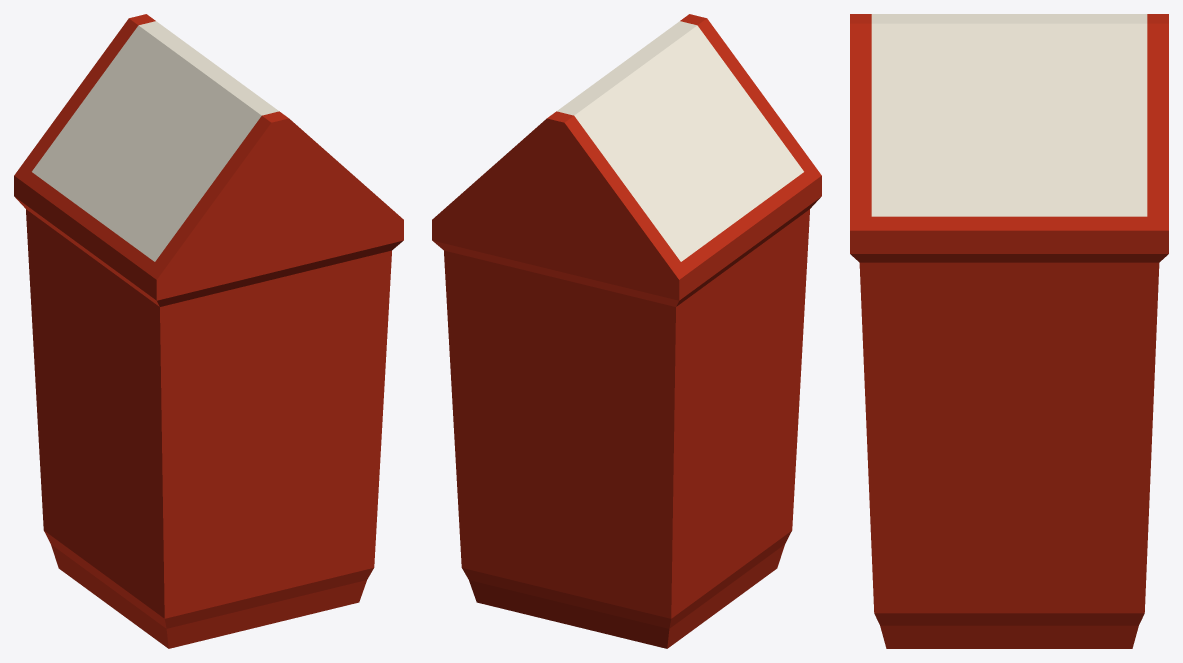
File: 70sBin.fbx
3 views of the same model, side by side, from view 1: azimuth 30°, elevation 25°; view 2: azimuth 150°, elevation 25°; view 3: azimuth 270°, elevation 25° (orthographic). The views are drawn at different scales.
Visible parts, largest first — view 1: 70s.Bin, 70s.Bin.Lid; view 2: 70s.Bin, 70s.Bin.Lid; view 3: 70s.Bin, 70s.Bin.Lid.
Boxes of the visible parts, x1,y1,x2,y2 form: 70s.Bin: (14,14,403,648); 70s.Bin.Lid: (32,21,278,261); 70s.Bin: (432,14,821,648); 70s.Bin.Lid: (557,21,803,261); 70s.Bin: (850,14,1168,648); 70s.Bin.Lid: (871,14,1147,216).
Bounding box in the file's own units: 20 × 40 × 20.
